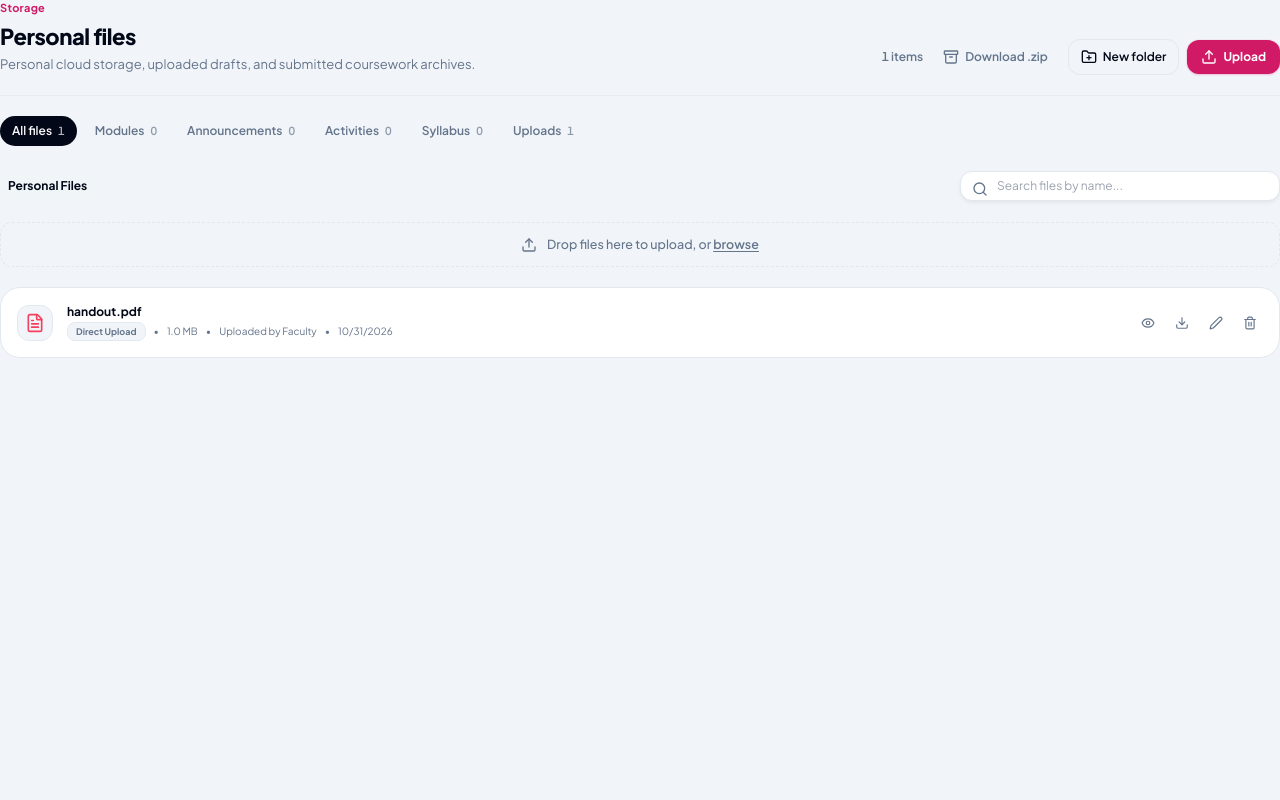
Scenario: FilesView PDF preview › renders the PDF with a client-side canvas renderer, avoiding bare iframe embedding
Click the button titled "Preview File": [1148, 323] box [1135, 310, 1161, 336]
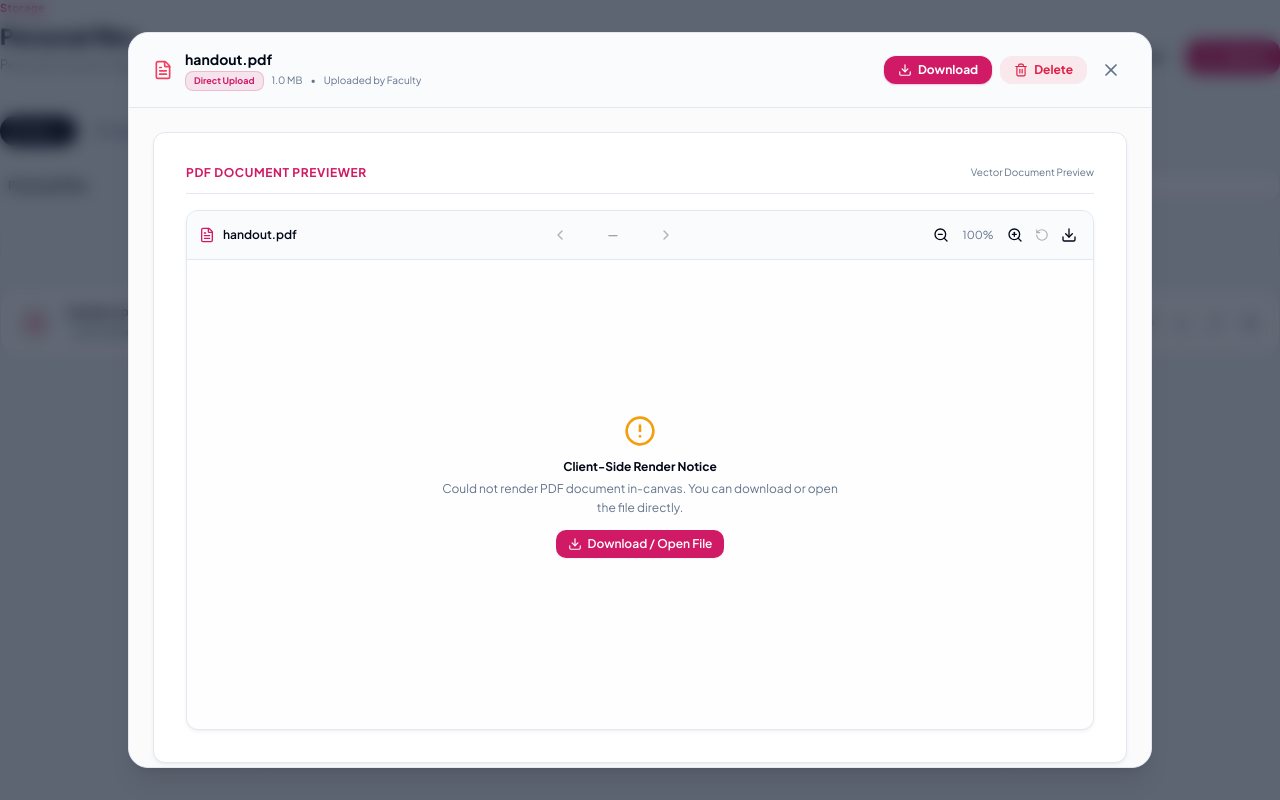
Result: the element with test id "pdf-canvas-viewer" is shown at [186, 210, 1094, 730]
